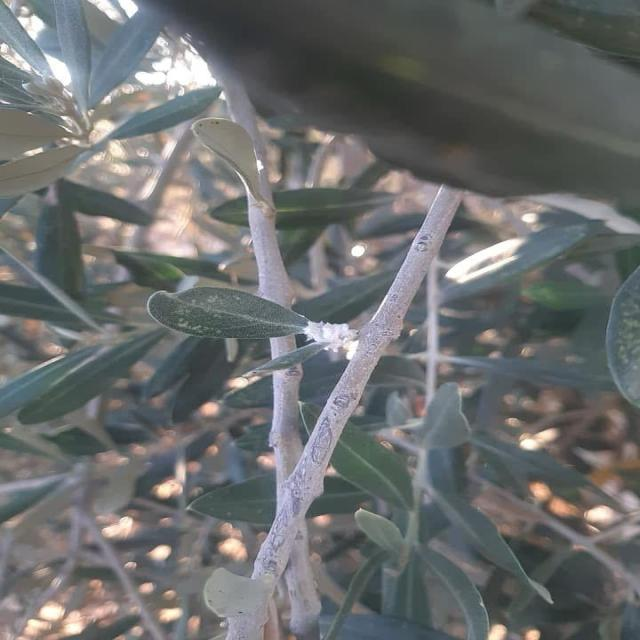Psyllid: (300, 321, 358, 359)
